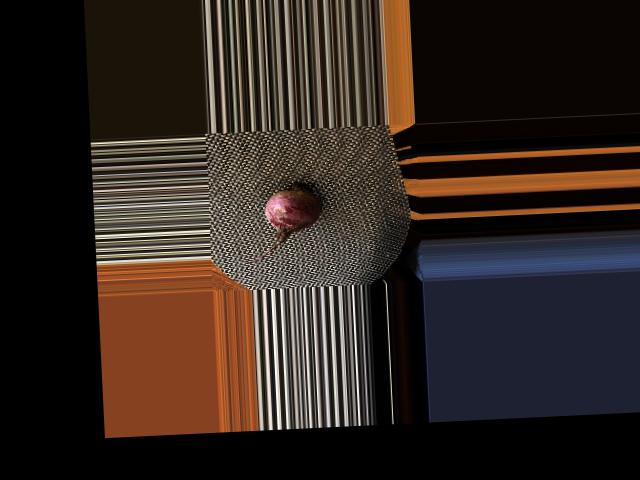beet: (238, 180, 324, 263)
